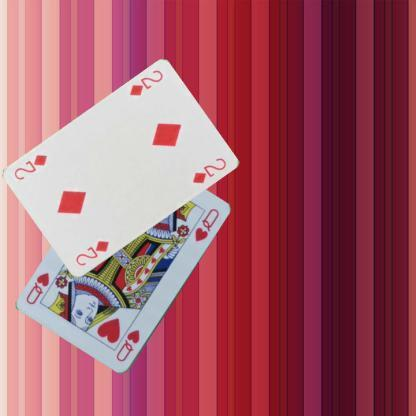2d: (127, 67, 164, 98), (73, 238, 110, 268)
Qh: (113, 326, 142, 364)
